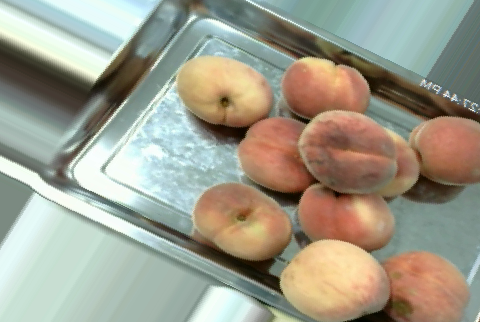Peach: (280, 237, 391, 319), (297, 109, 399, 195), (192, 181, 294, 259), (177, 55, 270, 128), (377, 249, 471, 320), (298, 183, 393, 249), (281, 55, 372, 122), (240, 117, 318, 192), (409, 114, 480, 186)
